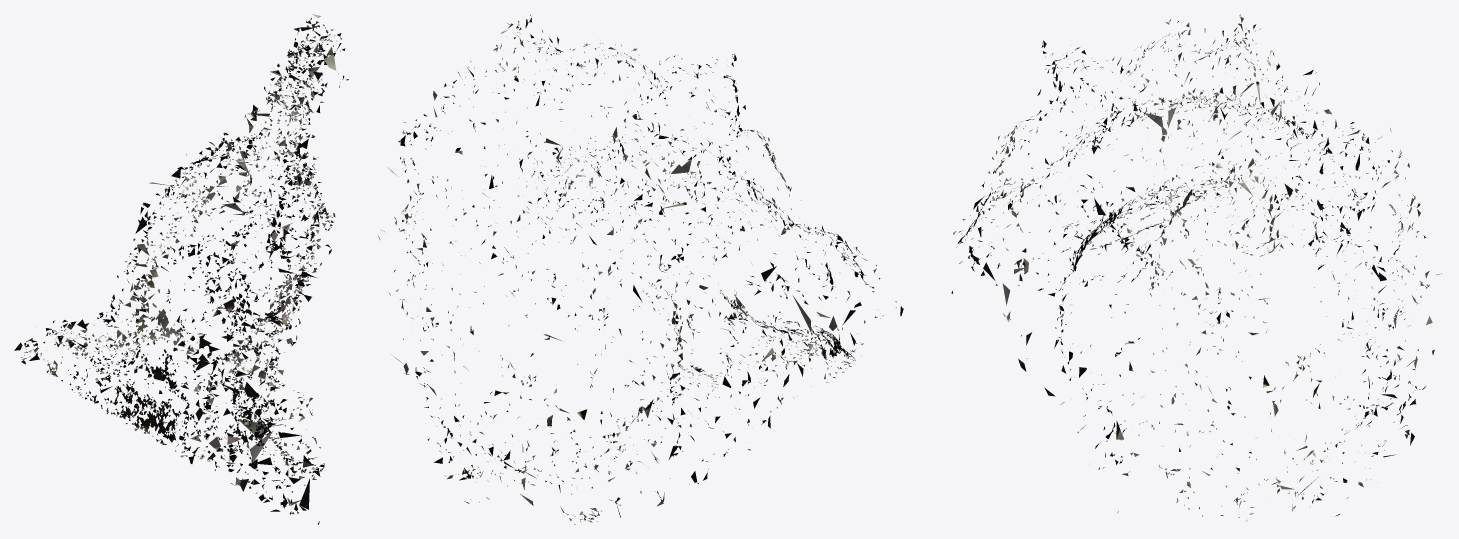
The picture shows the model from 3 angles, left to right: view 1: azimuth 30°, elevation 25°; view 2: azimuth 150°, elevation 25°; view 3: azimuth 270°, elevation 25°; orthographic projection. The views are drawn at different scales.
Visible parts, largest first — view 1: test12; view 2: test12; view 3: test12.
Part boxes in pixels (x1,y1,x2,y2): test12: (14,14,348,524); test12: (378,14,903,524); test12: (951,14,1441,521).
Bounding box in the file's own units: 1.16 × 1.46 × 1.29.
1 material, 1 textured.
